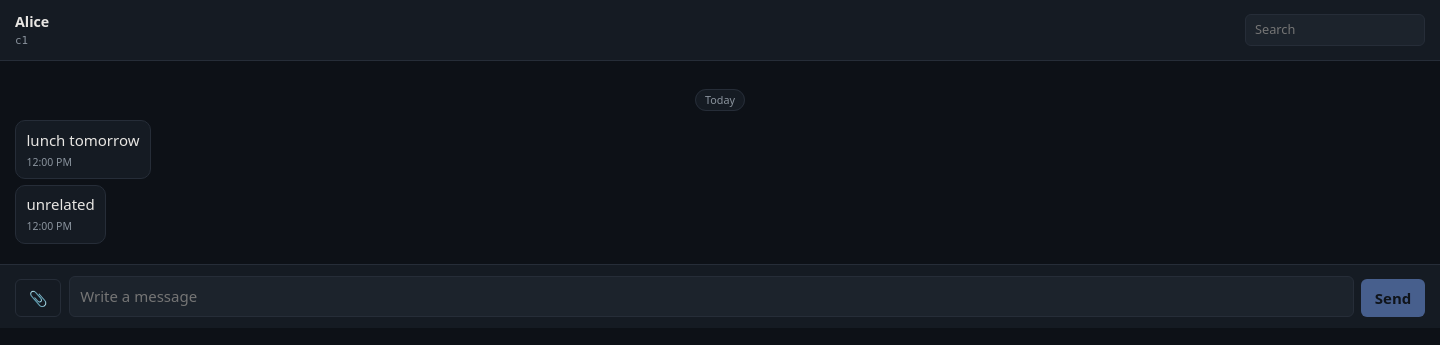
Test case: reactions and search in the chat view › filters the visible messages by search
Expected: the text "unrelated" is shown, [26, 193, 95, 216]
Type "lunch" into the search field named "Search this conversation". click: point(1335, 30)
box: [1245, 14, 1425, 46]
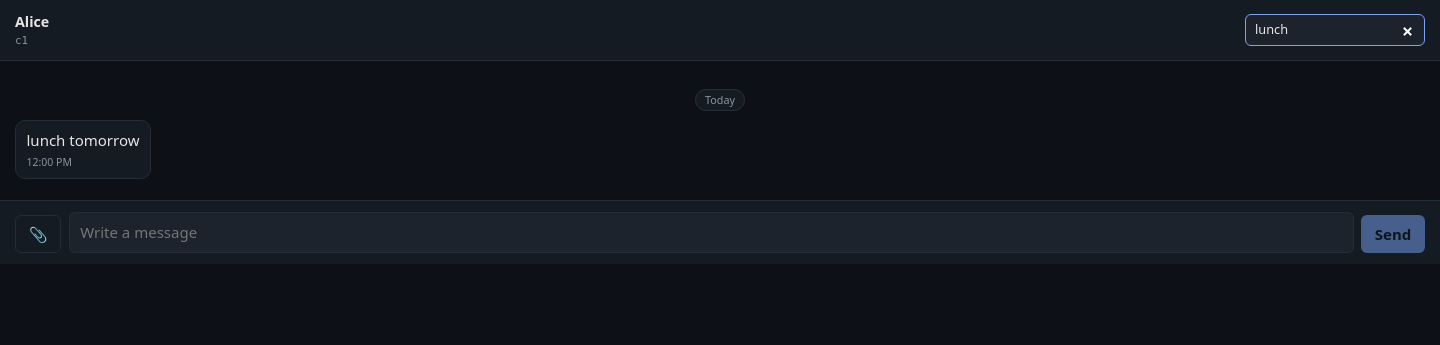
Expected: the text "lunch tomorrow" is shown, [26, 129, 140, 151]
Expected: the text "unrelated" is gone
